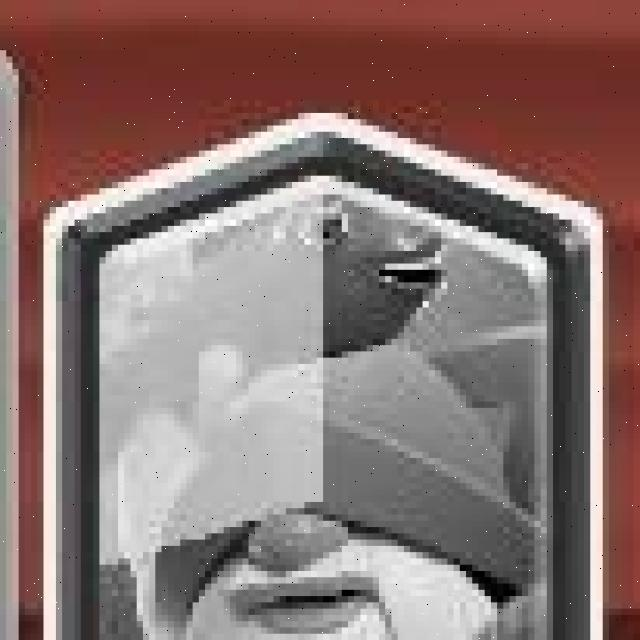Fisherman: (46, 110, 606, 640)
